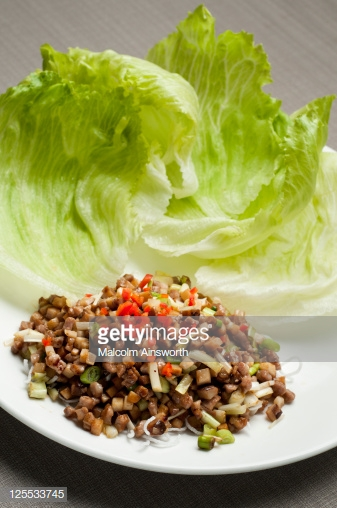chopped lettuce: (59, 52, 308, 223)
